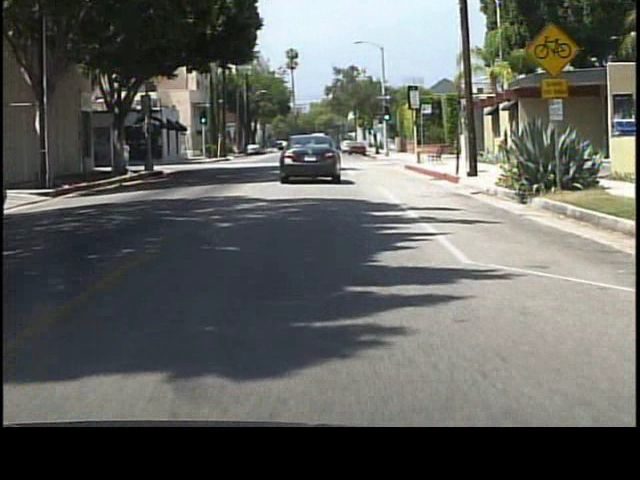person: (123, 137, 135, 172)
